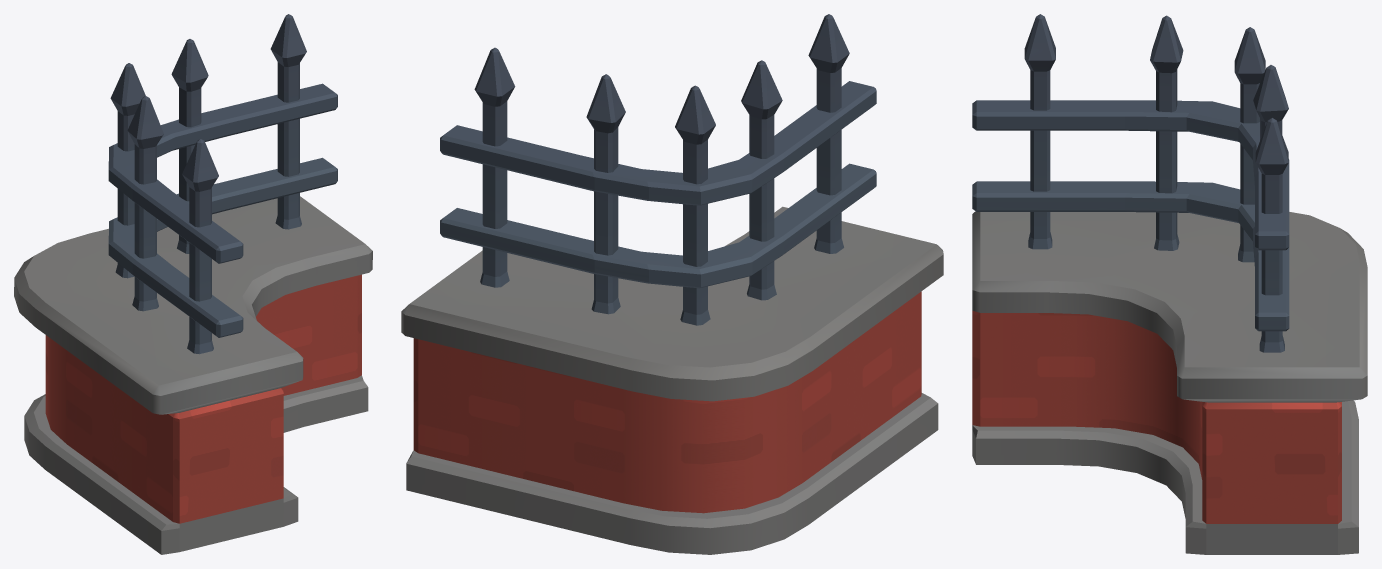
The model's file is BrickWall_5_1.glb.
3 renders of one model, left to right at view 1: azimuth 30°, elevation 25°; view 2: azimuth 150°, elevation 25°; view 3: azimuth 270°, elevation 25°, orthographic. The views are drawn at different scales.
Visible parts, largest first — view 1: BrickWall_5_1; view 2: BrickWall_5_1; view 3: BrickWall_5_1.
Part boxes in pixels (left/top/right/bottom): BrickWall_5_1: left=14, top=14, right=372, bottom=554; BrickWall_5_1: left=401, top=14, right=943, bottom=554; BrickWall_5_1: left=972, top=14, right=1367, bottom=554.
Size of the model in its own units: 1.32 by 1.52 by 1.32.
4 materials, 4 textured.
